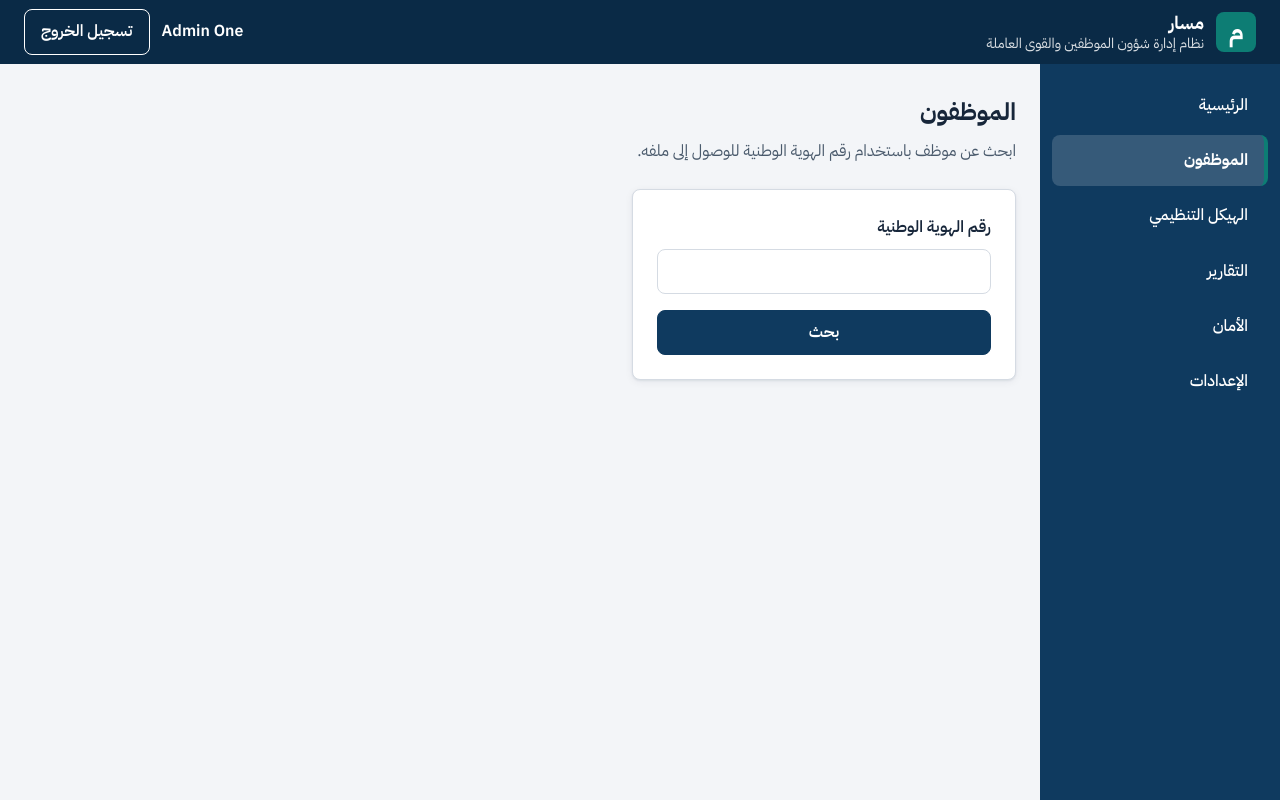
Test case: EmployeesPage › requires a value before searching
This screenshot has width=1280, height=800.
Step 1. Click the button "بحث" → (824, 333), box left=657, top=310, right=991, bottom=355
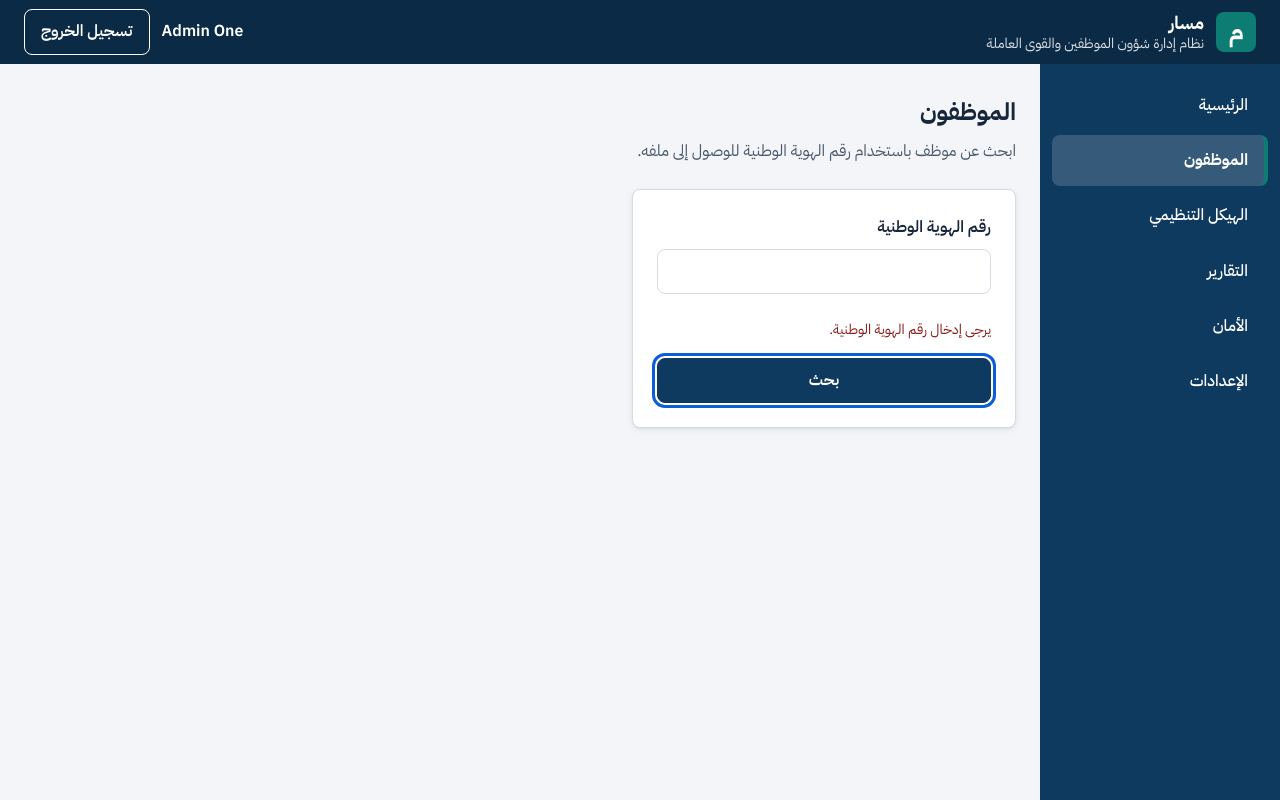
Check: the message reads "يرجى إدخال رقم الهوية الوطنية.", box left=829, top=319, right=991, bottom=340
